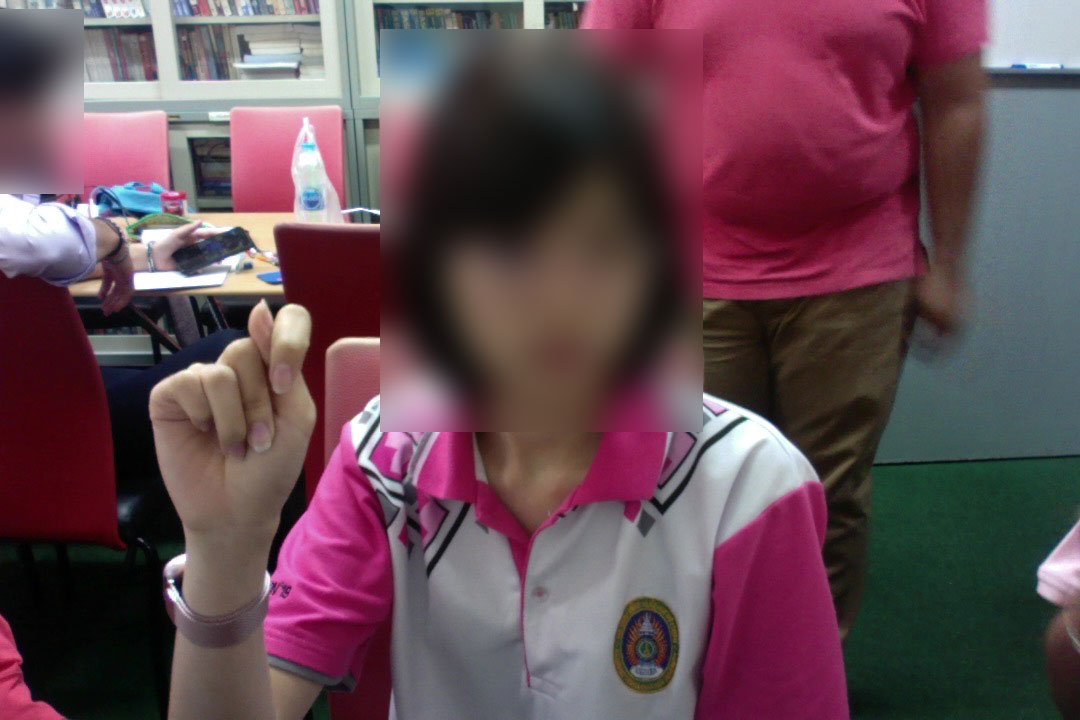tor: (144, 295, 318, 564)
